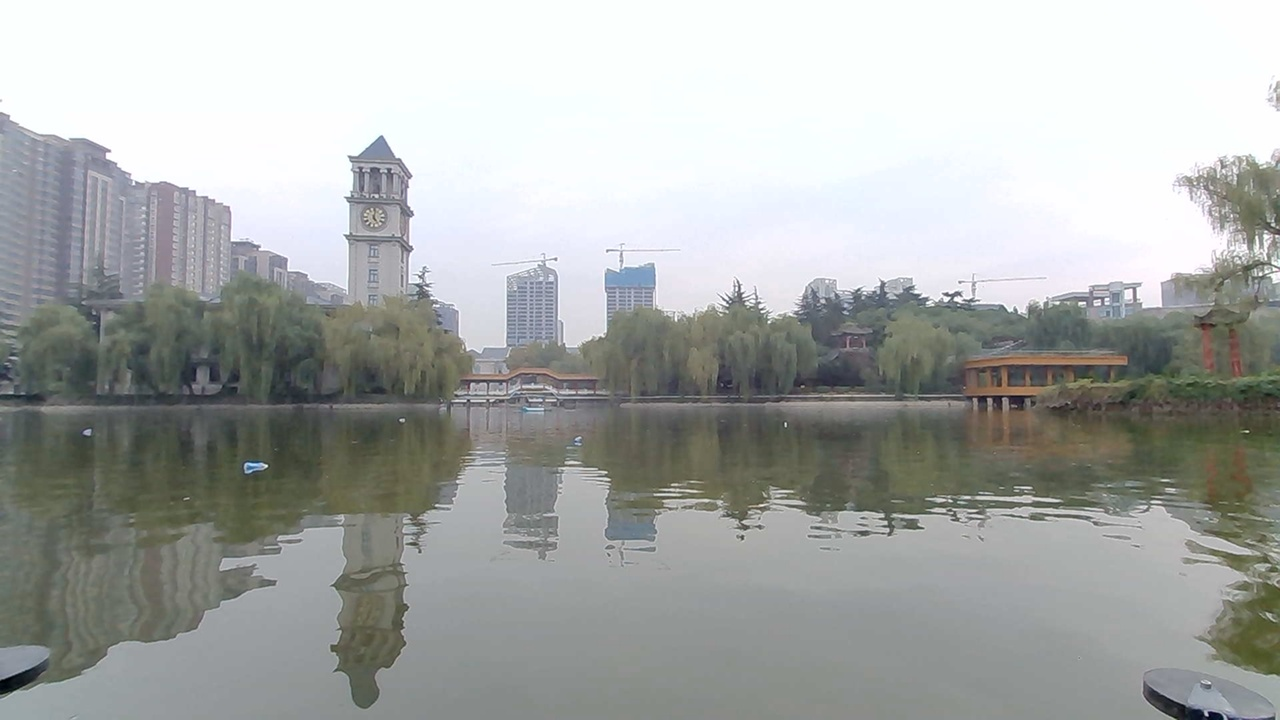bottle: (560, 424, 594, 451), (71, 418, 109, 442), (774, 411, 804, 437), (236, 457, 273, 478), (390, 408, 419, 430)
